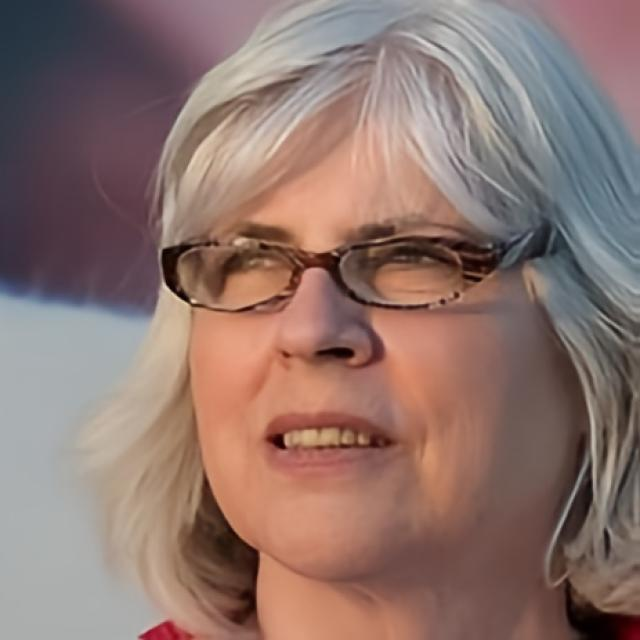disgust: (186, 106, 582, 590)
